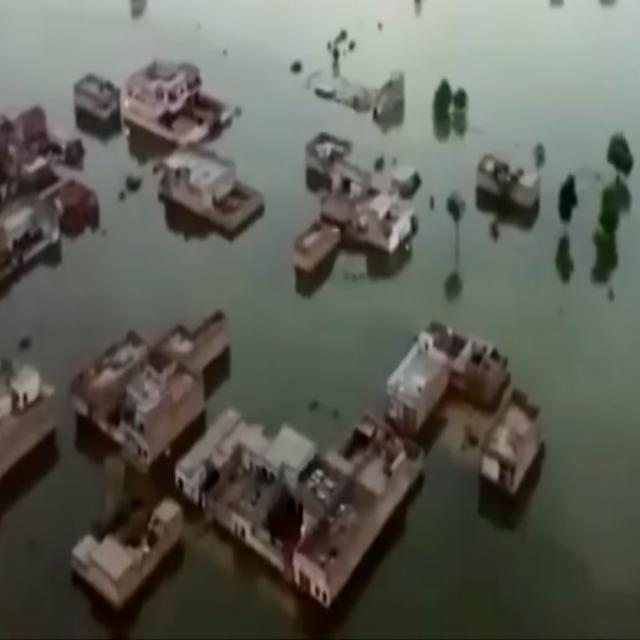flood: (0, 0, 640, 640)
house: (71, 314, 207, 464), (72, 494, 186, 614), (324, 158, 416, 258), (160, 144, 264, 232), (125, 63, 228, 144), (0, 359, 60, 476), (386, 334, 452, 434), (479, 404, 542, 494), (476, 156, 540, 206), (74, 72, 119, 126)
